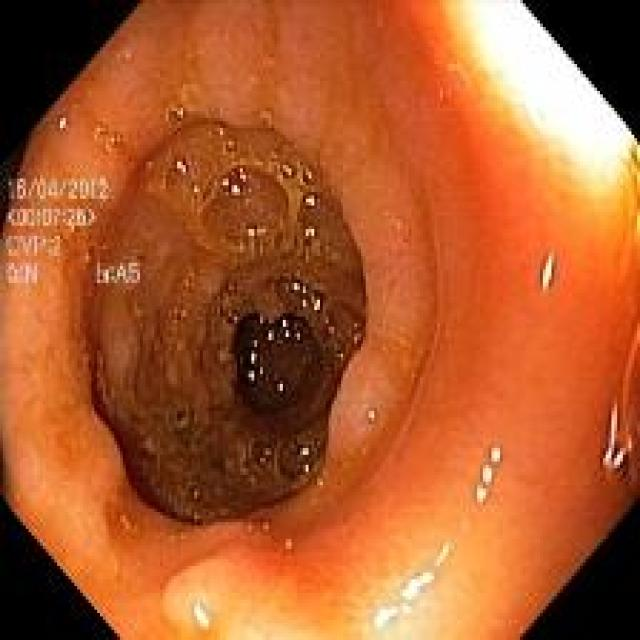Polyps: (324, 342, 395, 505), (162, 561, 230, 638), (105, 293, 142, 394), (195, 264, 222, 295)
